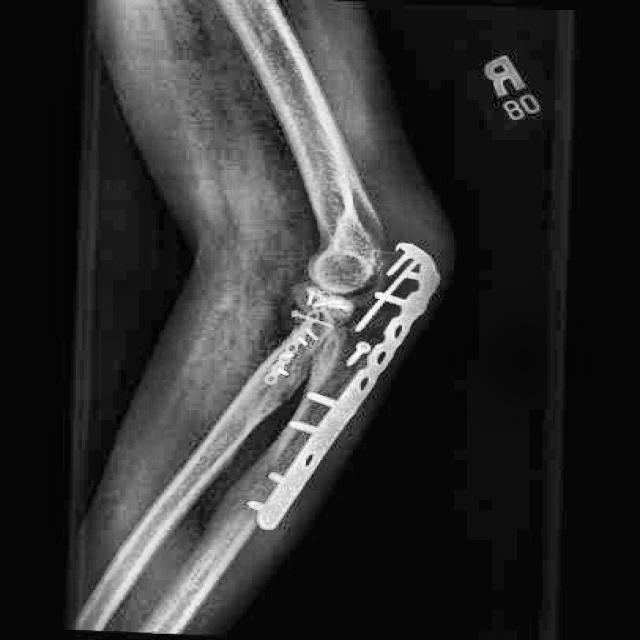elbow positive: (334, 293, 412, 353), (283, 298, 332, 339)
